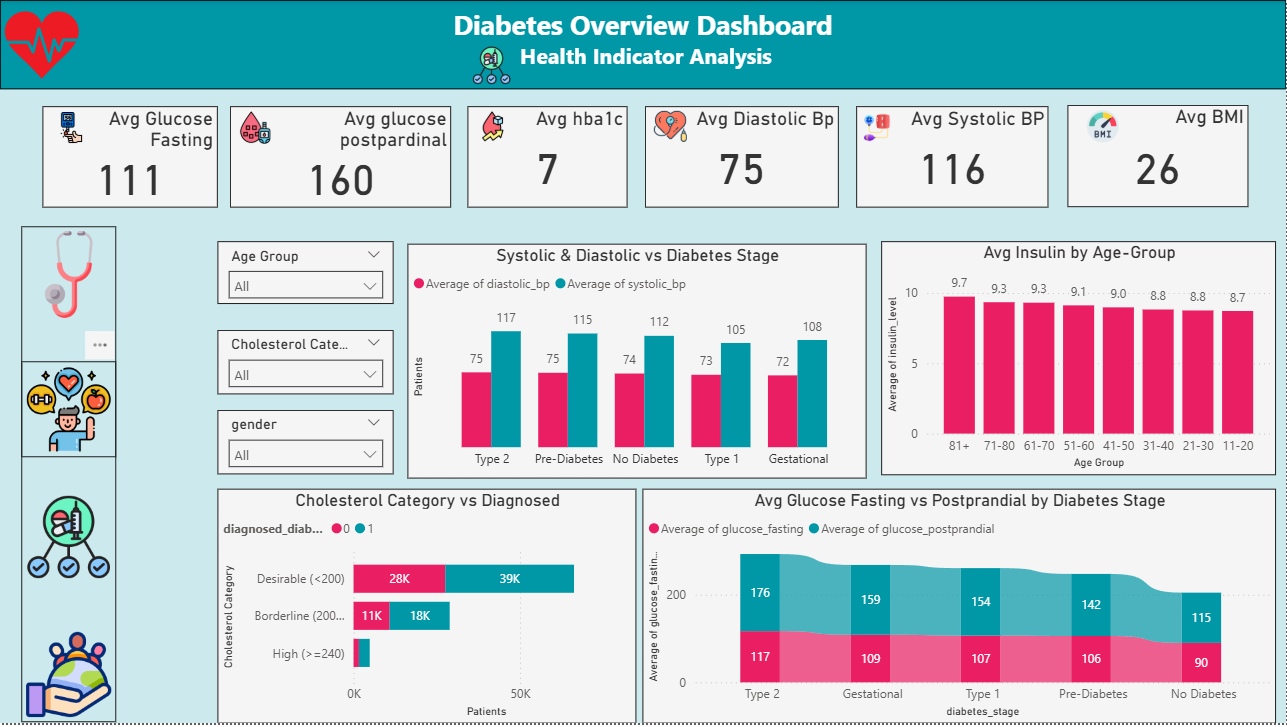

Layout of this report page (visuals, bound fields, positions):
{"tool":"powerbi","page":{"name":"Health Indicator ","canvas":[1280,720],"ordinal":2},"visuals":[{"type":"textbox","box":[0,0,1280,88.9],"z":0,"group":"g1"},{"type":"image","box":[20.6,225,94.7,96.1],"z":0,"group":"g2"},{"type":"clusteredColumnChart","title":"Systolic & Diastolic vs Diabetes Stage","fields":{"Y":["Avg(diabetes diabetes_dataset.diastolic_bp)","Avg(diabetes diabetes_dataset.systolic_bp)"],"Category":["diabetes diabetes_dataset.diabetes_stage"]},"box":[405.5,242.6,456.5,233.9],"z":0},{"type":"image","box":[0,0,83.8,88.9],"z":1000,"group":"g1"},{"type":"card","title":"Avg Glucose Fasting","fields":{"Values":["Avg(diabetes diabetes_dataset.glucose_fasting)"]},"box":[42.3,105.7,174.2,100.8],"z":1000},{"type":"image","box":[20.6,359.5,94.7,96.1],"z":1000,"group":"g2"},{"type":"clusteredColumnChart","title":"Avg Insulin by Age-Group","fields":{"Category":["diabetes diabetes_dataset.Age Group"],"Y":["Avg(diabetes diabetes_dataset.insulin_level)"]},"box":[877,240.1,393.1,232.6],"z":2000},{"type":"image","box":[20.6,485.7,94.7,96.1],"z":2000,"group":"g2"},{"type":"card","title":"Avg Diastolic Bp","fields":{"Values":["Avg(diabetes diabetes_dataset.diastolic_bp)"]},"box":[641.9,105.7,192.8,100.8],"z":3000},{"type":"image","box":[20.6,622.9,94.7,96.1],"z":3000,"group":"g2"},{"type":"ribbonChart","title":"Avg Glucose Fasting vs Postprandial by Diabetes Stage","fields":{"Y":["Avg(diabetes diabetes_dataset.glucose_fasting)","Avg(diabetes diabetes_dataset.glucose_postprandial)"],"Category":["diabetes diabetes_dataset.diabetes_stage"]},"box":[639.4,486.4,630.7,233.9],"z":4000},{"type":"card","title":"Avg Systolic BP","fields":{"Values":["Avg(diabetes diabetes_dataset.systolic_bp)"]},"box":[852.1,105.7,191.6,100.8],"z":5000},{"type":"group","id":"g1","title":"Group 1","box":[0,0,1280,88.9],"z":6000},{"type":"card","title":"Avg hba1c","fields":{"Values":["Avg(diabetes diabetes_dataset.hba1c)"]},"box":[465.2,105.7,159.2,100.8],"z":7000},{"type":"card","title":"Avg BMI","fields":{"Values":["Avg(diabetes diabetes_dataset.bmi)"]},"box":[1062.1,104.3,179.8,101.5],"z":8000},{"type":"image","box":[1072.3,104.5,51,42.3],"z":9000},{"type":"barChart","title":"Cholesterol Category vs Diagnosed","fields":{"Y":["CountNonNull(diabetes diabetes_dataset.PATIENT_ID)"],"Category":["diabetes diabetes_dataset.Cholesterol Category"],"Series":["diabetes diabetes_dataset.diagnosed_diabetes"]},"box":[216.4,486.4,416.7,233.9],"z":10000},{"type":"card","title":"Avg glucose postpardinal","fields":{"Values":["Avg(diabetes diabetes_dataset.glucose_postprandial)"]},"box":[228.9,105.7,220.2,100.8],"z":11000},{"type":"image","box":[465.2,41.2,48,48],"z":12000},{"type":"image","box":[42.5,105.7,50.8,42.5],"z":13000},{"type":"image","box":[229.2,105.7,50.8,42.5],"z":14000},{"type":"image","box":[465.2,104.3,50.8,42.5],"z":15000},{"type":"image","box":[642.2,104.3,50.8,42.5],"z":16000},{"type":"image","box":[852.1,105.7,41.2,42.5],"z":17000},{"type":"group","id":"g2","title":"Group 2","box":[20.6,225,94.7,494],"z":18000},{"type":"slicer","fields":{"Values":["diabetes diabetes_dataset.Age Group"]},"box":[216.7,239.5,175.3,62.7],"z":19000},{"type":"slicer","fields":{"Values":["diabetes diabetes_dataset.gender"]},"box":[216.7,407.7,175.3,64.1],"z":20000},{"type":"slicer","fields":{"Values":["diabetes diabetes_dataset.Cholesterol Category"]},"box":[216.7,327.8,175.3,64.1],"z":21000}]}

Visuals, with their boxes in screenshot pixels (x1, y1, x2, y2), scaled from the page's 1280x720 canvas onto the 1287x727 screenshot:
textbox: <box>0,0,1286,90</box>
image: <box>21,227,116,324</box>
"Systolic & Diastolic vs Diabetes Stage" clusteredColumnChart: <box>408,245,867,481</box>
image: <box>0,0,84,90</box>
"Avg Glucose Fasting" card: <box>43,107,218,209</box>
image: <box>21,363,116,460</box>
"Avg Insulin by Age-Group" clusteredColumnChart: <box>882,242,1277,477</box>
image: <box>21,490,116,587</box>
"Avg Diastolic Bp" card: <box>645,107,839,209</box>
image: <box>21,629,116,726</box>
"Avg Glucose Fasting vs Postprandial by Diabetes Stage" ribbonChart: <box>643,491,1277,726</box>
"Avg Systolic BP" card: <box>857,107,1049,209</box>
"Group 1" group: <box>0,0,1286,90</box>
"Avg hba1c" card: <box>468,107,628,209</box>
"Avg BMI" card: <box>1068,105,1249,208</box>
image: <box>1078,106,1129,148</box>
"Cholesterol Category vs Diagnosed" barChart: <box>218,491,637,726</box>
"Avg glucose postpardinal" card: <box>230,107,452,209</box>
image: <box>468,42,516,90</box>
image: <box>43,107,94,150</box>
image: <box>230,107,282,150</box>
image: <box>468,105,519,148</box>
image: <box>646,105,697,148</box>
image: <box>857,107,898,150</box>
"Group 2" group: <box>21,227,116,726</box>
slicer - diabetes diabetes_dataset.Age Group: <box>218,242,394,305</box>
slicer - diabetes diabetes_dataset.gender: <box>218,412,394,476</box>
slicer - diabetes diabetes_dataset.Cholesterol Category: <box>218,331,394,396</box>
